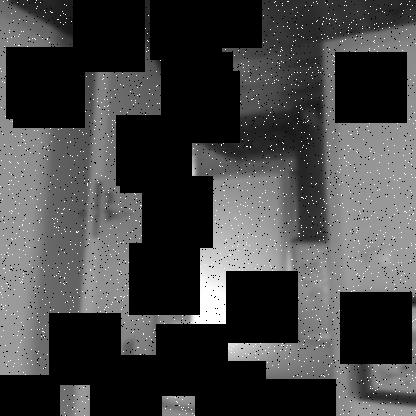Porte: (72, 1, 354, 415)
